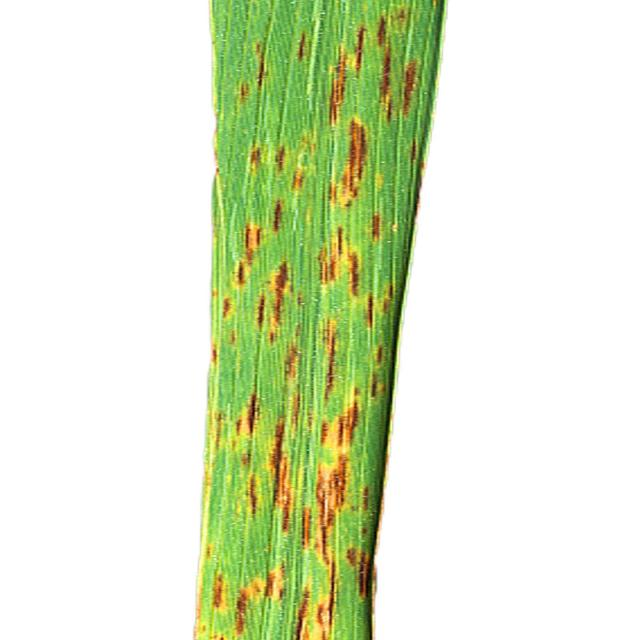Narrow brown: (174, 0, 452, 640)
